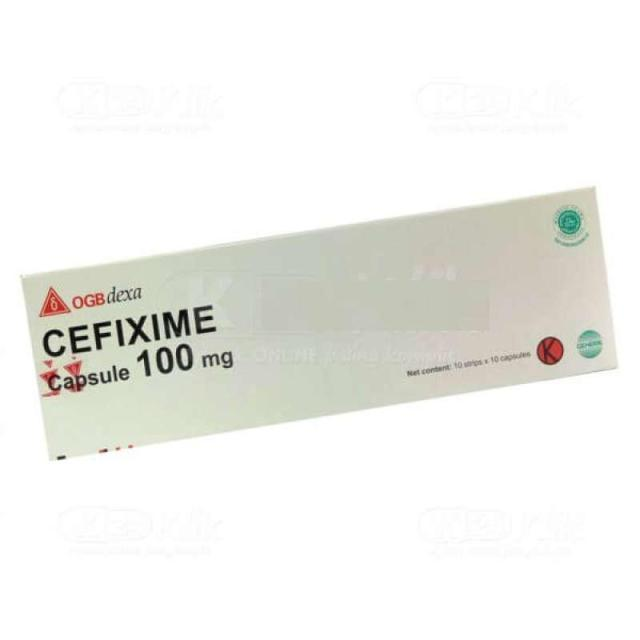drug-name: (42, 296, 226, 362)
